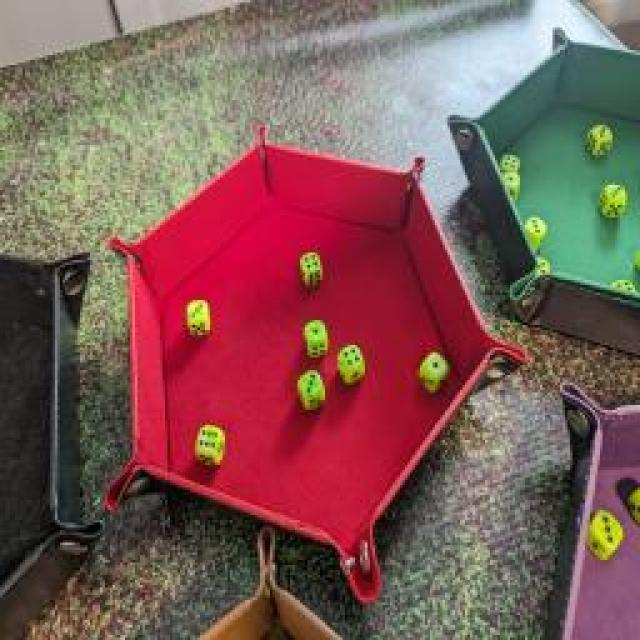dice_1: (416, 346, 449, 394), (301, 315, 329, 357), (499, 168, 521, 204)
dice_3: (584, 502, 626, 560), (177, 296, 215, 339), (294, 366, 326, 412), (596, 179, 629, 219), (584, 119, 614, 156), (522, 213, 548, 245)
dice_4: (333, 339, 365, 386), (296, 248, 324, 288), (610, 272, 635, 298), (499, 152, 519, 176)
dice_5: (526, 254, 554, 278)
dice_6: (191, 420, 229, 470)
